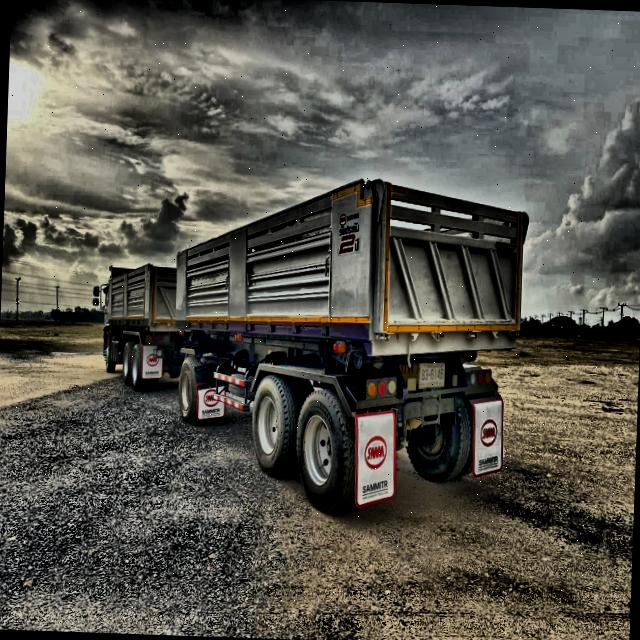trailer: (84, 157, 537, 521)
